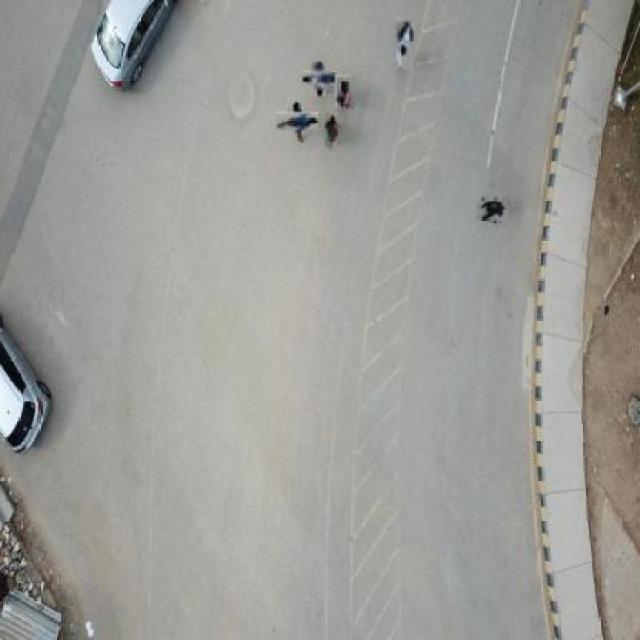Person: (394, 18, 414, 72), (282, 106, 313, 139), (480, 197, 506, 223), (307, 66, 331, 92), (336, 75, 352, 110), (326, 112, 340, 151)
